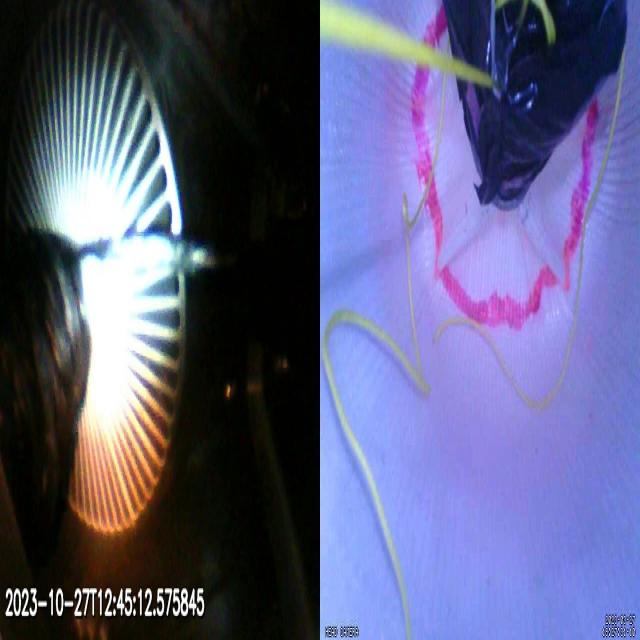red-circle: (412, 6, 600, 330)
